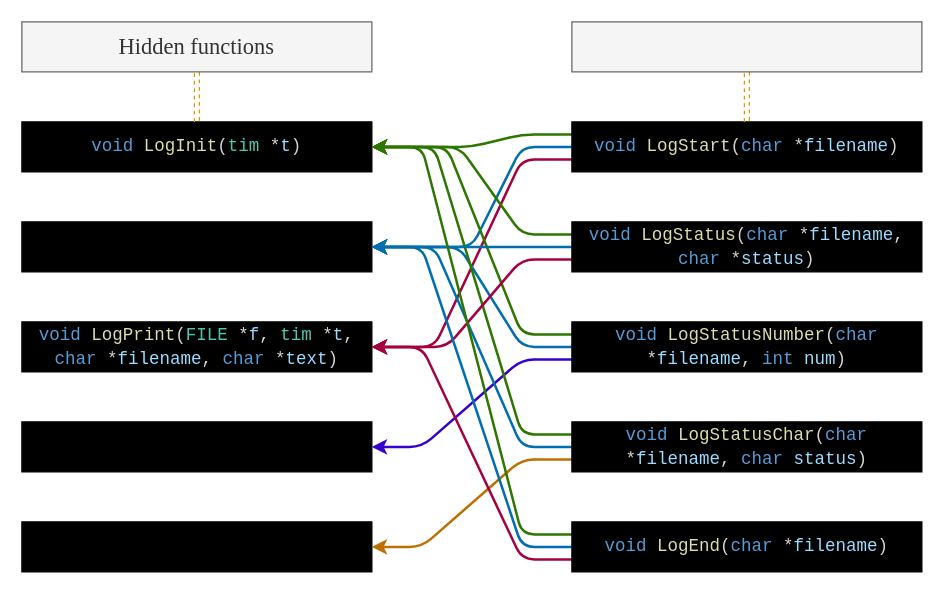
The diagram is 944 pixels wide and 594 high, and some of its shapes have lost their labels. The centre of each missing label's shape, as x and y in pixels:
"Called functions" belongs at point 746,46.
"void LogPrintChar ( FILE * f , tim * t , char * filename , char text )" belongs at point 196,546.
"void LogPrintNum ( FILE * f , tim * t , char * filename , int num )" belongs at point 196,446.
"void LogTime ( tim * t )" belongs at point 196,246.
